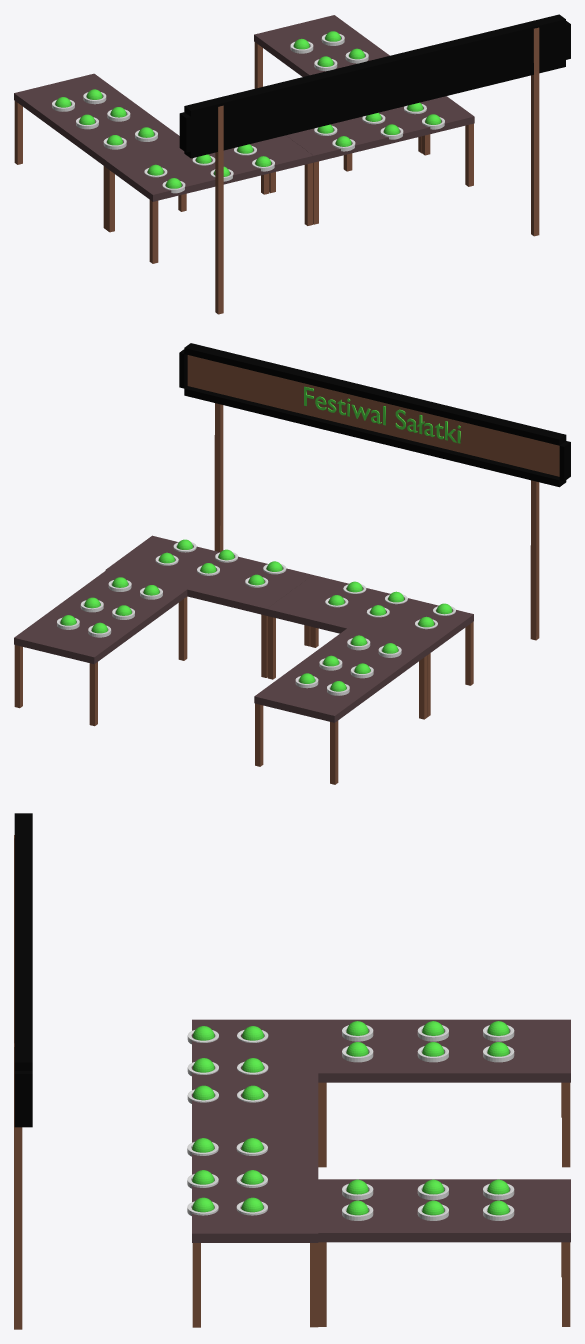
File: Festiwalsałatki 2.fbx
3 views of the same model, one above another, from view 1: azimuth 30°, elevation 25°; view 2: azimuth 150°, elevation 25°; view 3: azimuth 270°, elevation 25° (orthographic). The views are drawn at different scales.
Parts seen in each view (by area): view 1: sałatki 2.002; view 2: sałatki 2.002, Text; view 3: sałatki 2.002.
Part boxes in pixels (box(x1,y1,x2,y2)): sałatki 2.002: box(14, 14, 570, 314); sałatki 2.002: box(14, 343, 570, 784); Text: box(304, 386, 460, 443); sałatki 2.002: box(14, 813, 570, 1329).
Size of the model in its own units: 321 by 167 by 295.
